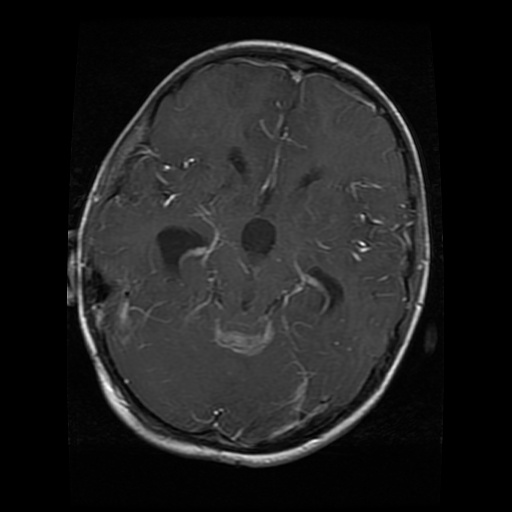glioma: (152, 224, 207, 281)
